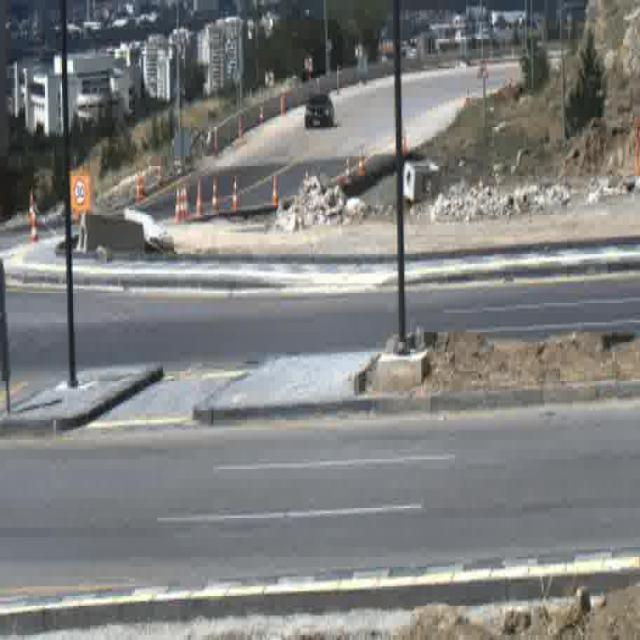Car: (305, 93, 336, 128)
